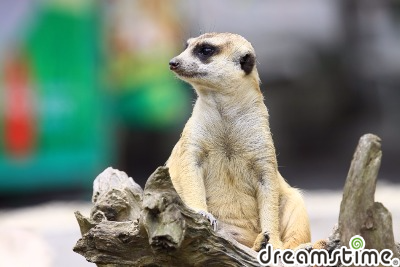meerkat: (143, 26, 336, 247)
